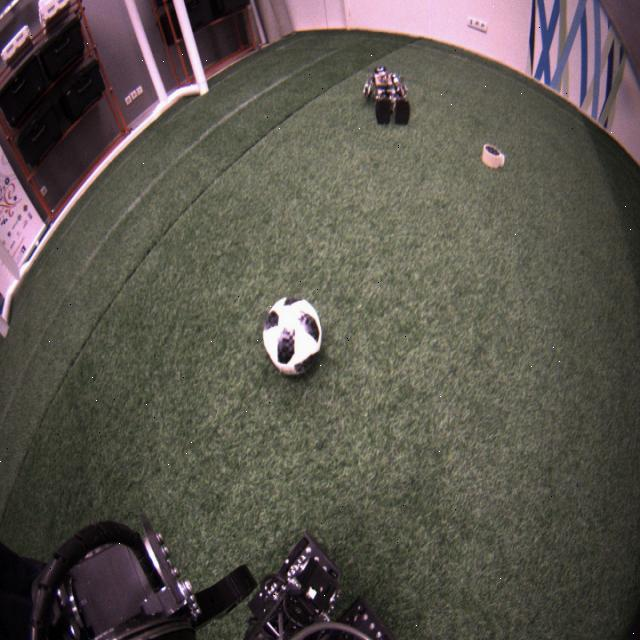ball: (262, 299, 322, 377)
goalpost: (173, 0, 211, 96), (1, 317, 9, 341)
